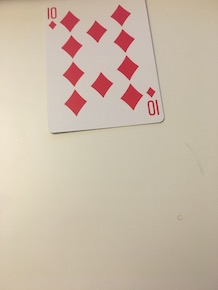TenOfDiamonds: (36, 1, 167, 134)
